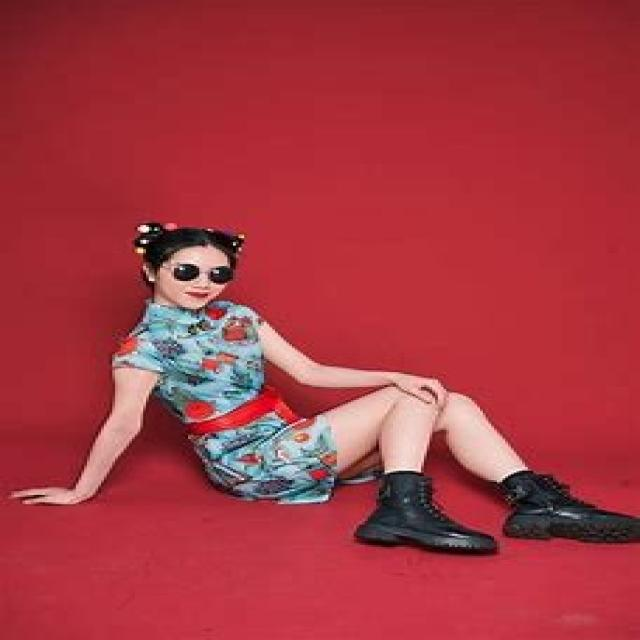sit: (85, 224, 638, 555)
